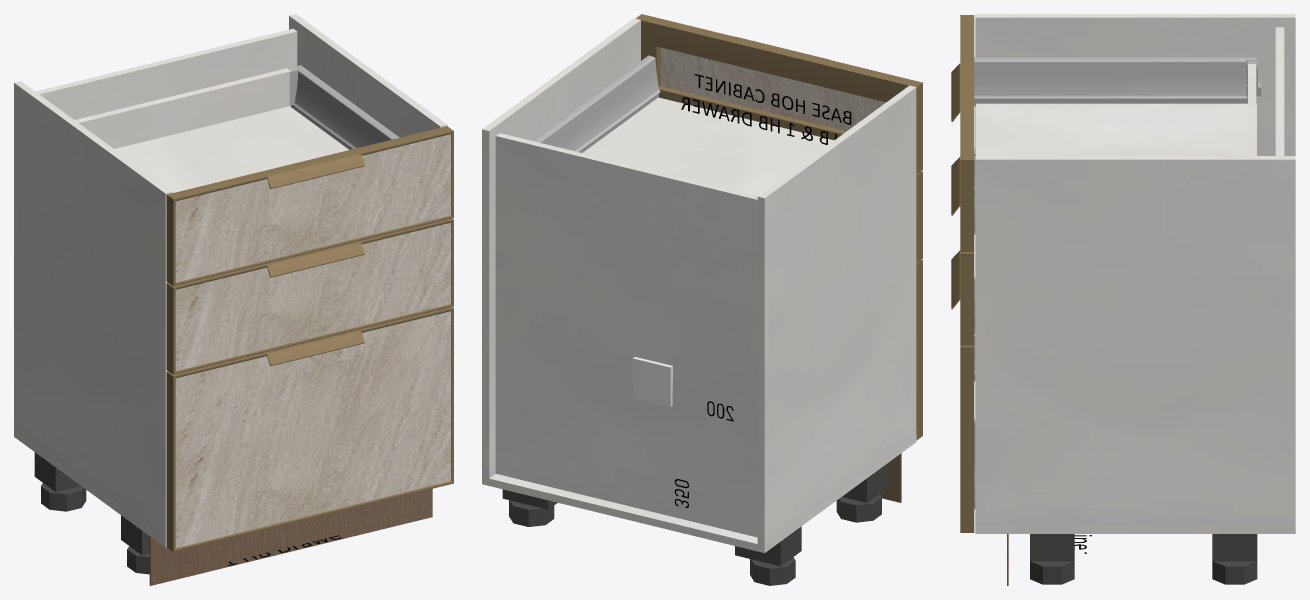
File: BC-HO-TTS-ST-2LB-1HB-XXX-600-720-560-15.glb
The picture shows the model from 3 angles, left to right: view 1: azimuth 30°, elevation 25°; view 2: azimuth 150°, elevation 25°; view 3: azimuth 270°, elevation 25°; orthographic projection. The views are drawn at different scales.
Visible parts, largest first — view 1: TP_node_6, Object_node, Object_node_1, Object_node_3, TP_node_3, TP, Object_node_94, TP_node_4, TP_node_7, Shell_0_0_node_0, ExtrSplGeo_node_0, Extrusion_node_4 (+15 smaller); view 2: TP, TP_node_6, TP_node_3, TP_node_7, Object_node_3, TP_node_5, Shell_0_0_node_0, ExtrSplGeo_node_0, Extrusion_node_14, Extrusion_node_15, Extrusion_node_17, 2D text (+11 smaller); view 3: TP_node_7, TP_node_6, TP_node_3, Shell_1_0_node_0, Object_node_76, Extrusion_node_2, TP_node_5, Extrusion_node_9, Extrusion_node_16, TP, Plate_node, Plate_node_1 (+8 smaller).
Boxes of the visible parts, x1=… form: TP_node_6: x1=14, y1=81, x2=172, y2=532; Object_node: x1=175, y1=311, x2=450, y2=547; Object_node_1: x1=175, y1=222, x2=450, y2=370; Object_node_3: x1=175, y1=134, x2=450, y2=282; TP_node_3: x1=114, y1=106, x2=348, y2=192; TP: x1=35, y1=28, x2=297, y2=148; Object_node_94: x1=149, y1=489, x2=432, y2=585; TP_node_4: x1=75, y1=68, x2=291, y2=148; TP_node_7: x1=289, y1=14, x2=447, y2=137; Shell_0_0_node_0: x1=291, y1=65, x2=399, y2=149; ExtrSplGeo_node_0: x1=260, y1=149, x2=364, y2=188; Extrusion_node_4: x1=166, y1=372, x2=175, y2=551; TP: x1=495, y1=133, x2=757, y2=537; TP_node_6: x1=757, y1=85, x2=916, y2=537; TP_node_3: x1=582, y1=97, x2=833, y2=195; TP_node_7: x1=482, y1=18, x2=640, y2=470; Object_node_3: x1=660, y1=47, x2=885, y2=131; TP_node_5: x1=482, y1=435, x2=916, y2=553; Shell_0_0_node_0: x1=532, y1=55, x2=660, y2=152; ExtrSplGeo_node_0: x1=728, y1=36, x2=829, y2=86; Extrusion_node_14: x1=636, y1=14, x2=734, y2=63; Extrusion_node_15: x1=822, y1=60, x2=922, y2=102; Extrusion_node_17: x1=659, y1=86, x2=846, y2=140; 2D text: x1=681, y1=74, x2=851, y2=144; TP_node_7: x1=975, y1=156, x2=1295, y2=517; TP_node_6: x1=975, y1=14, x2=1295, y2=155; TP_node_3: x1=976, y1=103, x2=1256, y2=155; Shell_1_0_node_0: x1=974, y1=57, x2=1256, y2=106; Object_node_76: x1=975, y1=518, x2=1295, y2=526; Extrusion_node_2: x1=960, y1=347, x2=974, y2=532; TP_node_5: x1=975, y1=526, x2=1295, y2=533; Extrusion_node_9: x1=960, y1=253, x2=974, y2=345; Extrusion_node_16: x1=960, y1=160, x2=974, y2=251; TP: x1=1275, y1=27, x2=1284, y2=155; Plate_node: x1=1212, y1=534, x2=1257, y2=561; Plate_node_1: x1=1030, y1=534, x2=1074, y2=561.
Size of what is drawn, in the model's own units: 0.6 by 0.82 by 0.6.
Materials: 11 (3 with a texture image).
